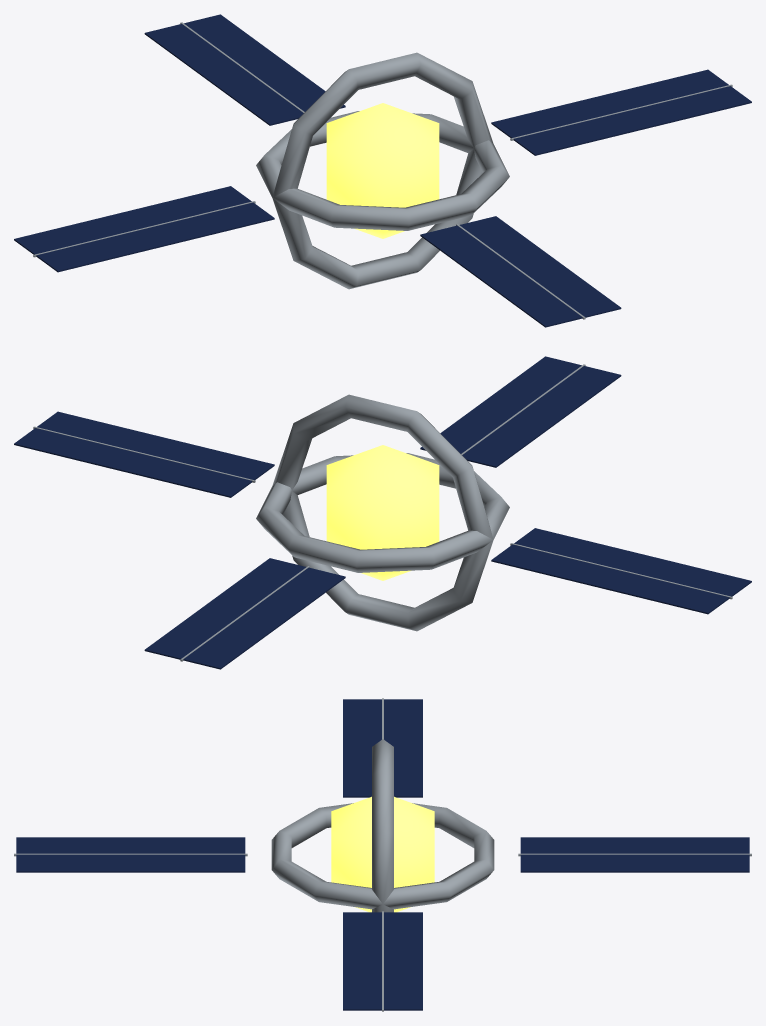
The model's file is space_orbital_energy_t1_lod1.glb.
3 views of the same model, one above another, from view 1: azimuth 30°, elevation 25°; view 2: azimuth 150°, elevation 25°; view 3: azimuth 270°, elevation 25° (orthographic). The views are drawn at different scales.
Parts seen in each view (by area): view 1: body, solar_0, solar_2, solar_1, solar_3; view 2: body, solar_0, solar_2, solar_3, solar_1; view 3: body, solar_1, solar_3, solar_0, solar_2.
Boxes of the visible parts, x1=… form: body: x1=256, y1=52, x2=509, y2=289; solar_0: x1=491, y1=69, x2=751, y2=155; solar_2: x1=14, y1=186, x2=274, y2=272; solar_1: x1=420, y1=216, x2=621, y2=327; solar_3: x1=144, y1=14, x2=345, y2=125; body: x1=256, y1=394, x2=509, y2=631; solar_0: x1=14, y1=411, x2=274, y2=497; solar_2: x1=491, y1=528, x2=751, y2=614; solar_3: x1=144, y1=558, x2=345, y2=669; solar_1: x1=420, y1=356, x2=621, y2=467; body: x1=271, y1=739, x2=494, y2=912; solar_1: x1=14, y1=837, x2=247, y2=872; solar_3: x1=518, y1=837, x2=751, y2=872; solar_0: x1=343, y1=911, x2=422, y2=1011; solar_2: x1=343, y1=698, x2=422, y2=797.
Size of the model in its own units: 32.2 by 9.7 by 32.2.
